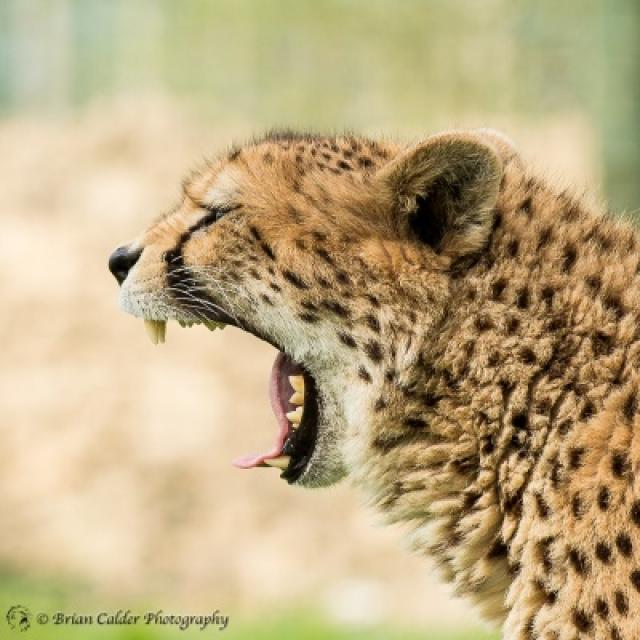Cheetah: (108, 123, 638, 638)
